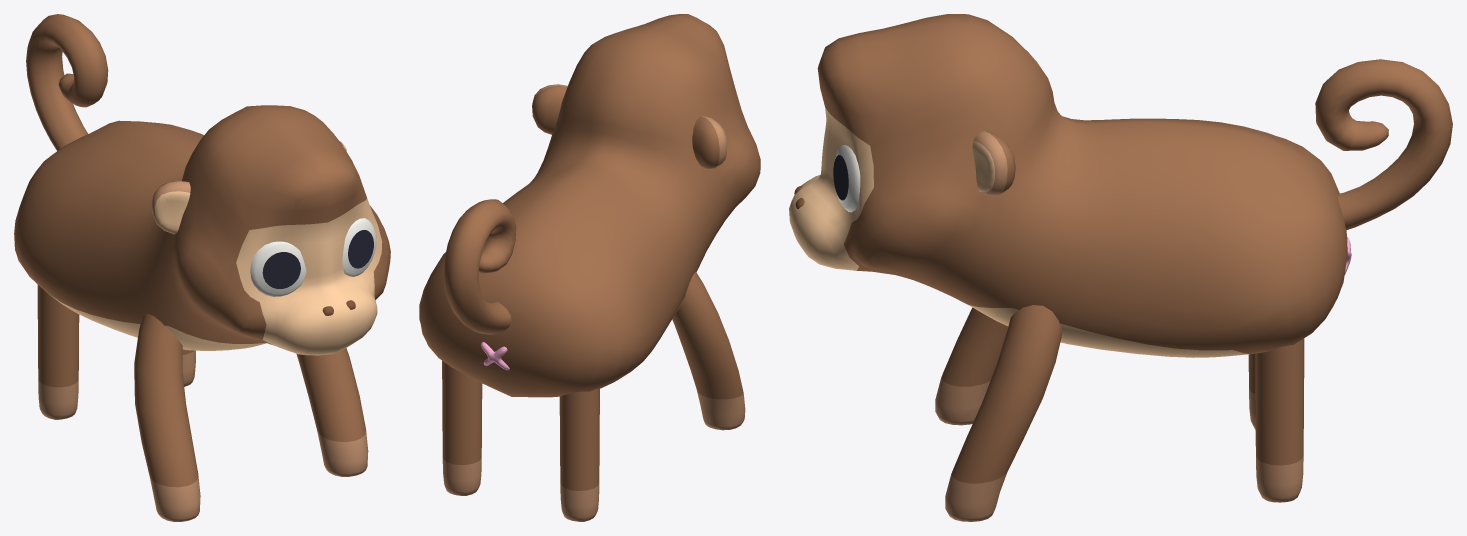
The model's file is Monkey.glb.
3 views of the same model, side by side, from view 1: azimuth 30°, elevation 25°; view 2: azimuth 150°, elevation 25°; view 3: azimuth 270°, elevation 25° (orthographic). The views are drawn at different scales.
Visible parts, largest first — view 1: Monkey; view 2: Monkey; view 3: Monkey.
Boxes of the visible parts, x1,y1,x2,y2 form: Monkey: (14,14,390,521); Monkey: (419,14,760,521); Monkey: (789,14,1452,521).
Size of the model in its own units: 1.24 by 2.05 by 2.76.
Materials: 1 (1 with a texture image).
